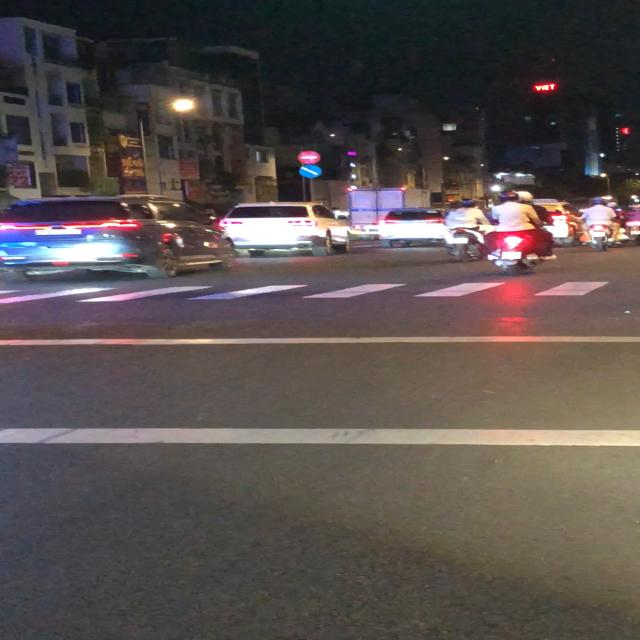Bien bao cam di nguoc chieu: (296, 149, 323, 164)
Bien bao huong phai di vong chuong ngai vat: (299, 164, 323, 180)
